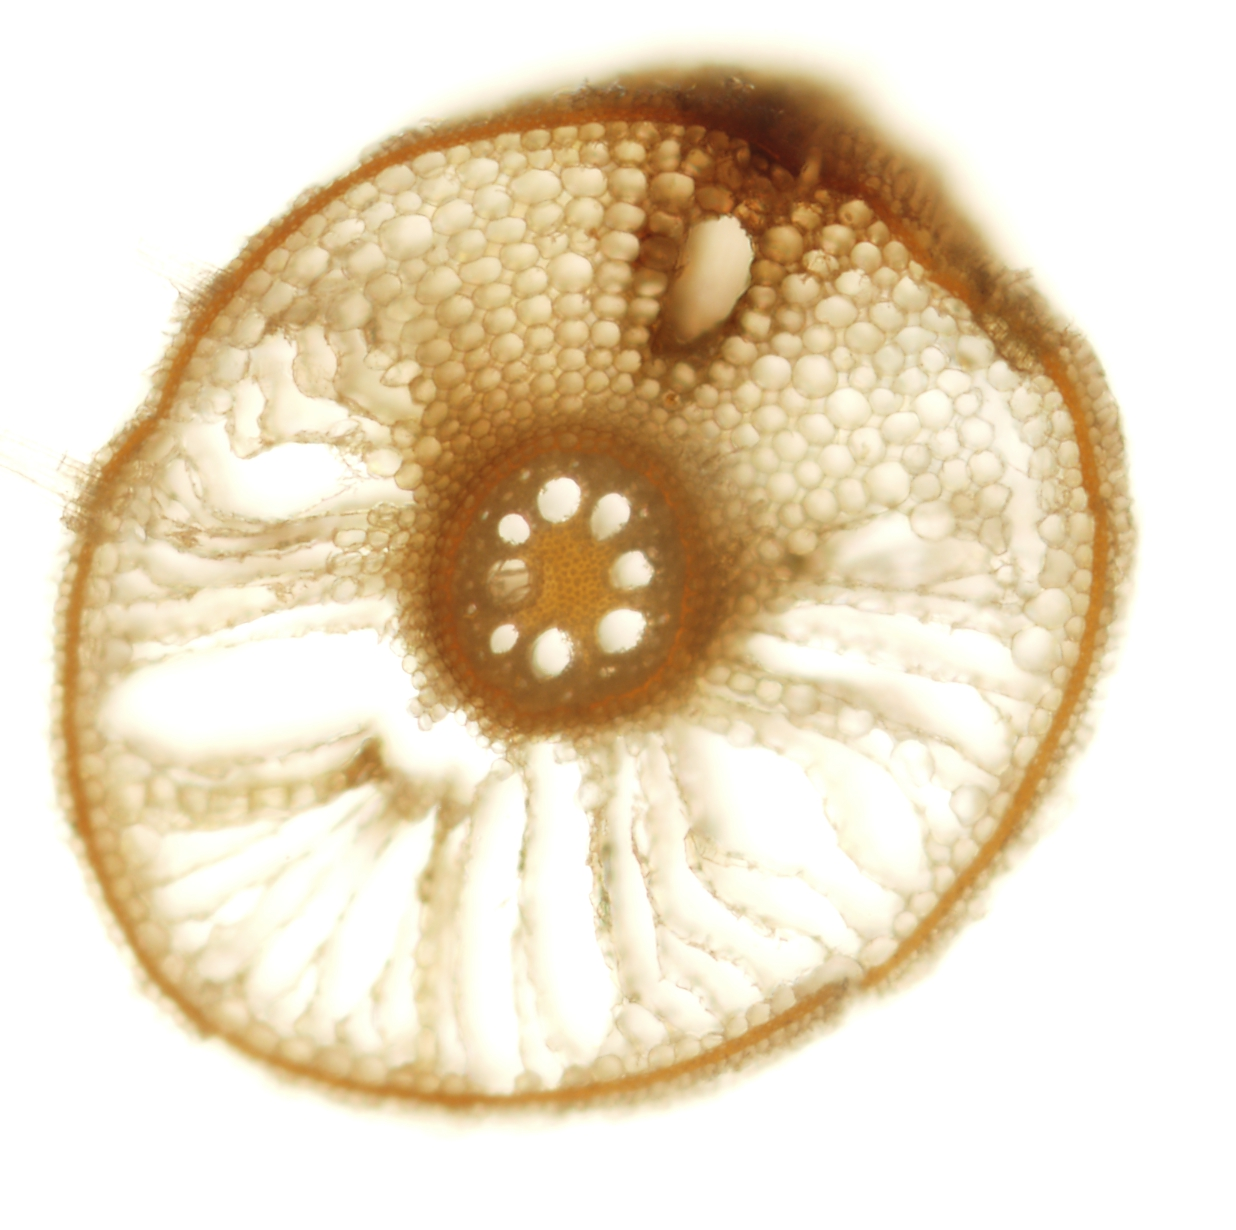lm: (530, 627, 573, 681), (596, 609, 647, 654), (484, 558, 530, 606), (536, 476, 581, 523), (589, 493, 631, 541), (608, 550, 653, 591), (497, 512, 531, 546), (489, 624, 519, 654)
